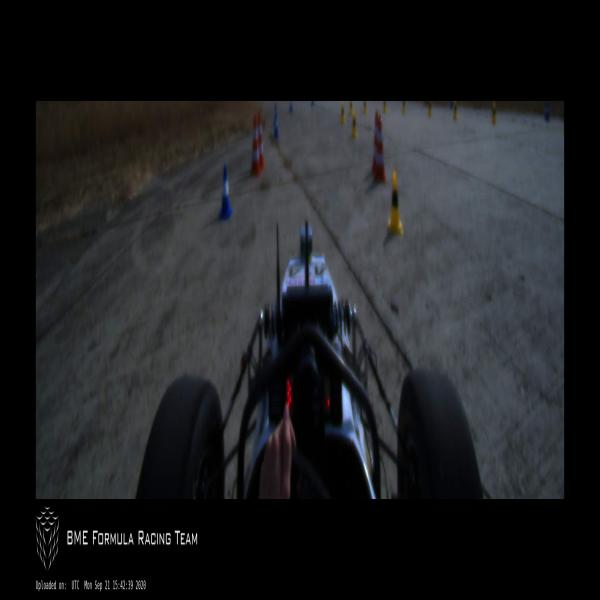blue_cone: (218, 165, 233, 222), (272, 104, 279, 139), (288, 102, 293, 113), (311, 102, 314, 106)
large_orange_cone: (373, 114, 387, 183), (250, 113, 262, 178), (257, 111, 265, 172), (371, 110, 378, 173)
yellow_cone: (387, 172, 402, 236), (351, 112, 358, 139), (490, 102, 496, 124), (452, 101, 458, 121), (340, 101, 345, 124), (428, 101, 432, 117), (348, 101, 352, 116), (402, 101, 406, 112), (383, 102, 386, 112), (364, 102, 366, 114)
